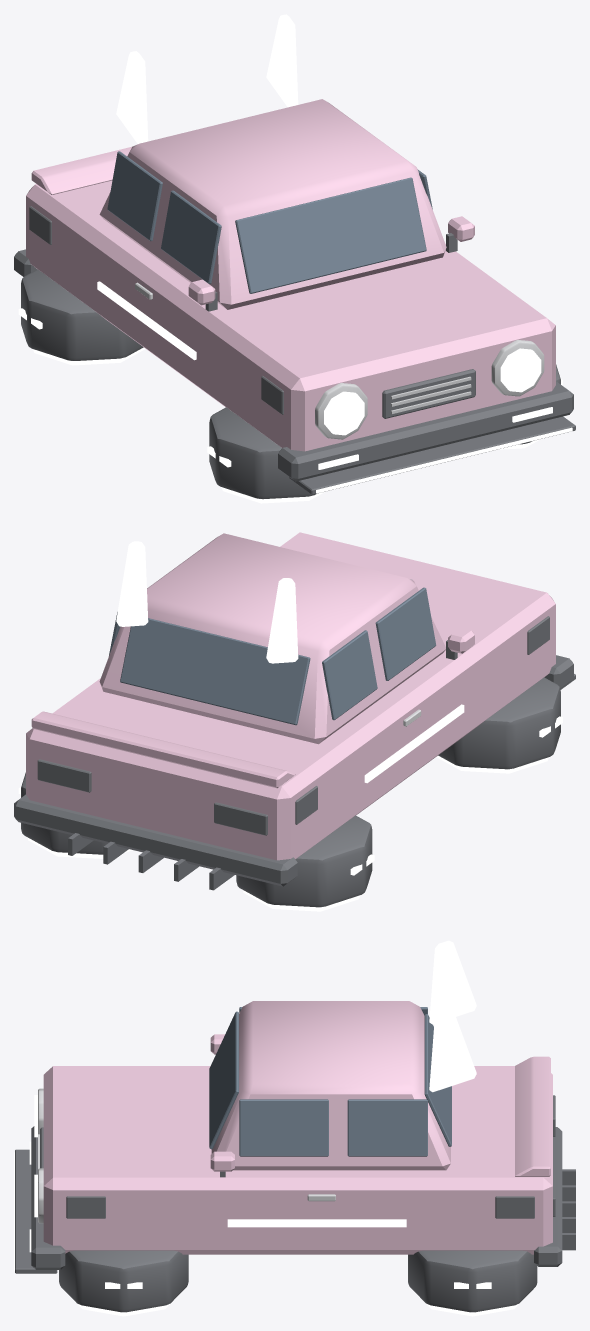
File: hover_car.fbx
3 renders of one model, top to bottom at view 1: azimuth 30°, elevation 25°; view 2: azimuth 150°, elevation 25°; view 3: azimuth 270°, elevation 25°, orthographic. The views are drawn at different scales.
Parts seen in each view (by area): view 1: Body, Trim, Glass, Light, Metal; view 2: Body, Trim, Glass, Light; view 3: Body, Trim, Glass, Light, Metal.
Part boxes in pixels (<box>): Body: <box>26,99,555,451</box>; Trim: <box>14,206,575,499</box>; Glass: <box>107,151,432,293</box>; Light: <box>18,14,572,503</box>; Metal: <box>135,282,544,439</box>; Body: <box>26,532,555,860</box>; Trim: <box>14,616,575,907</box>; Glass: <box>109,579,436,725</box>; Light: <box>18,541,562,911</box>; Body: <box>43,1001,552,1254</box>; Trim: <box>15,1095,575,1312</box>; Glass: <box>209,1007,451,1156</box>; Light: <box>14,940,530,1316</box>; Metal: <box>38,1088,335,1223</box>.
Bounding box in the file's own units: 3.81 × 3.14 × 5.96.
